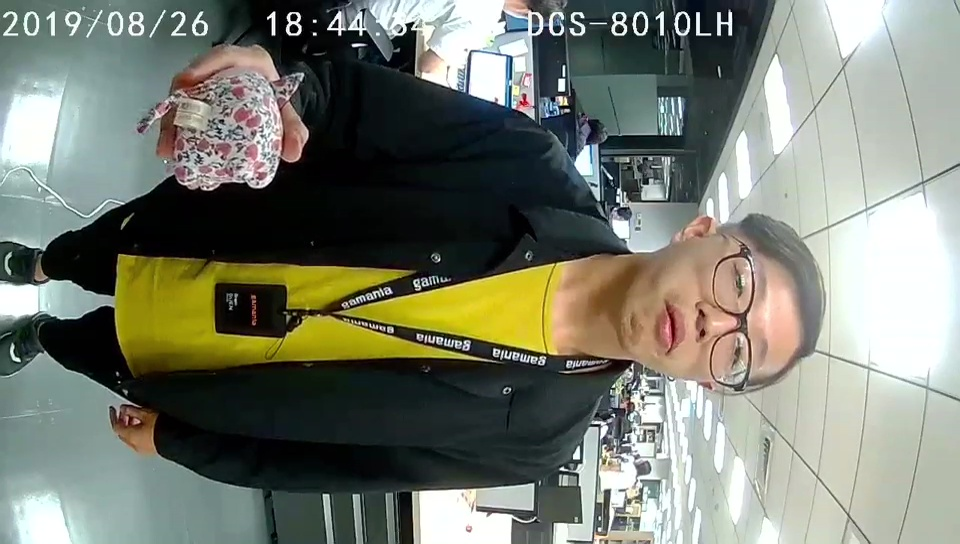pig: (173, 63, 306, 194)
